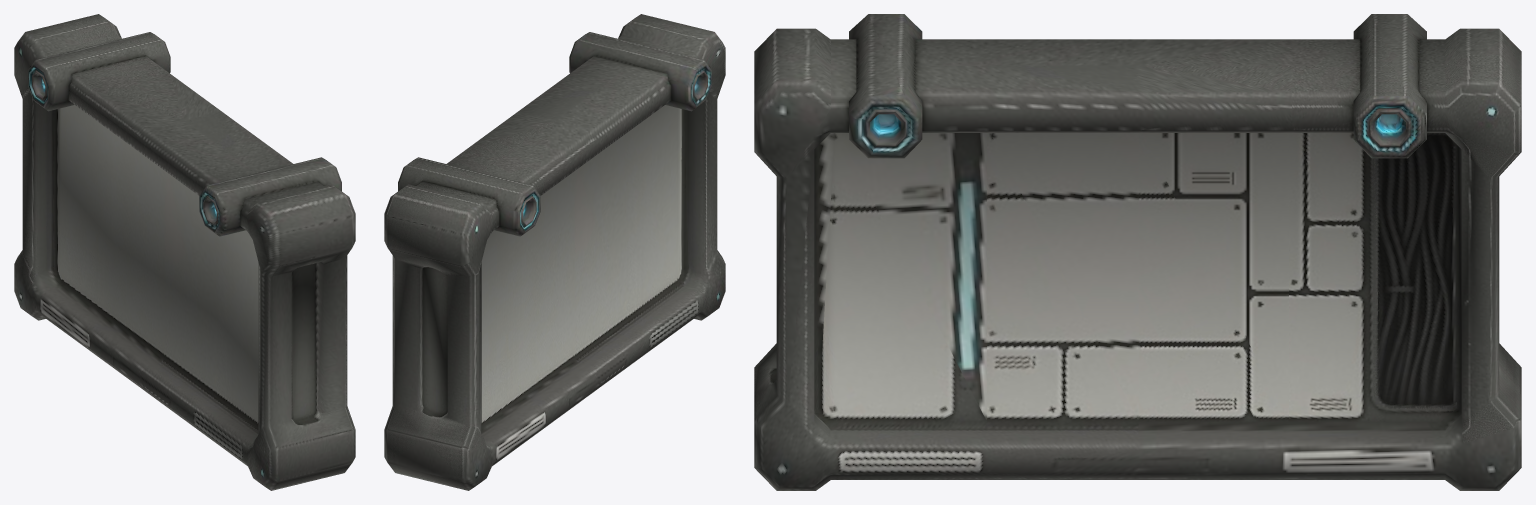
File: tripo_convert_b685e24a-53c8-46e0-ae93-a89841b15192.fbx
3 views of the same model, side by side, from view 1: azimuth 30°, elevation 25°; view 2: azimuth 150°, elevation 25°; view 3: azimuth 270°, elevation 25° (orthographic). The views are drawn at different scales.
Visible parts, largest first — view 1: tripo_node_b685e24a; view 2: tripo_node_b685e24a; view 3: tripo_node_b685e24a.
Boxes of the visible parts, box(x1,y1,x2,y2) form: tripo_node_b685e24a: box(14, 14, 355, 490); tripo_node_b685e24a: box(384, 14, 725, 490); tripo_node_b685e24a: box(754, 14, 1521, 490).
Size of the model in its own units: 0.2676 by 0.5879 by 0.998.
Materials: 1 (1 with a texture image).
